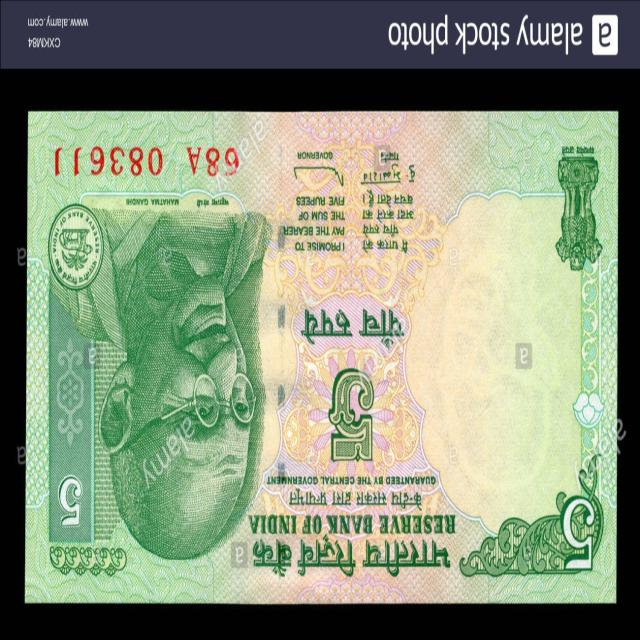5IndianRupees: (28, 109, 614, 604)
